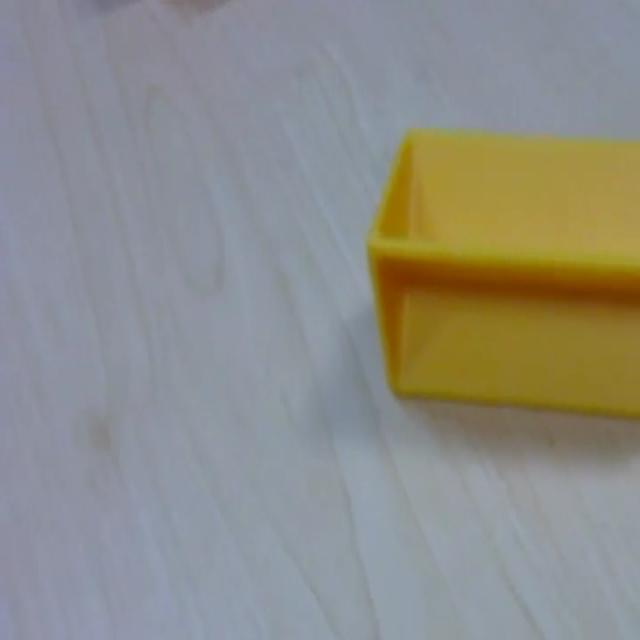yellow_block: (366, 124, 639, 419)
